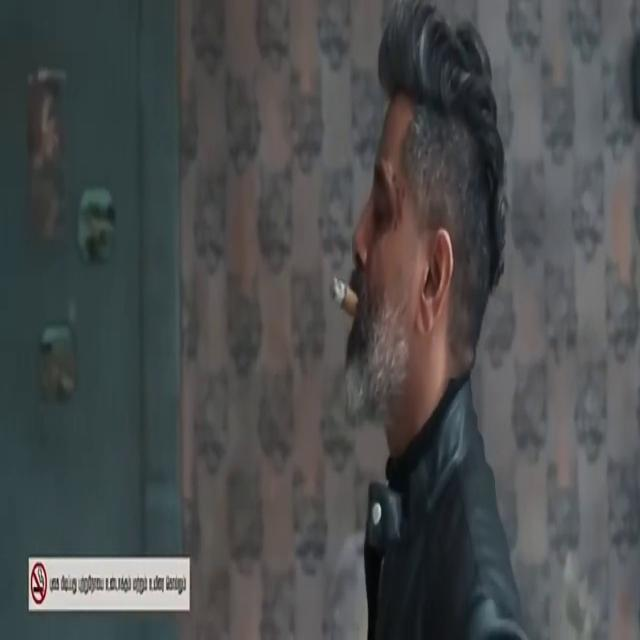smoking: (360, 206, 396, 404)
